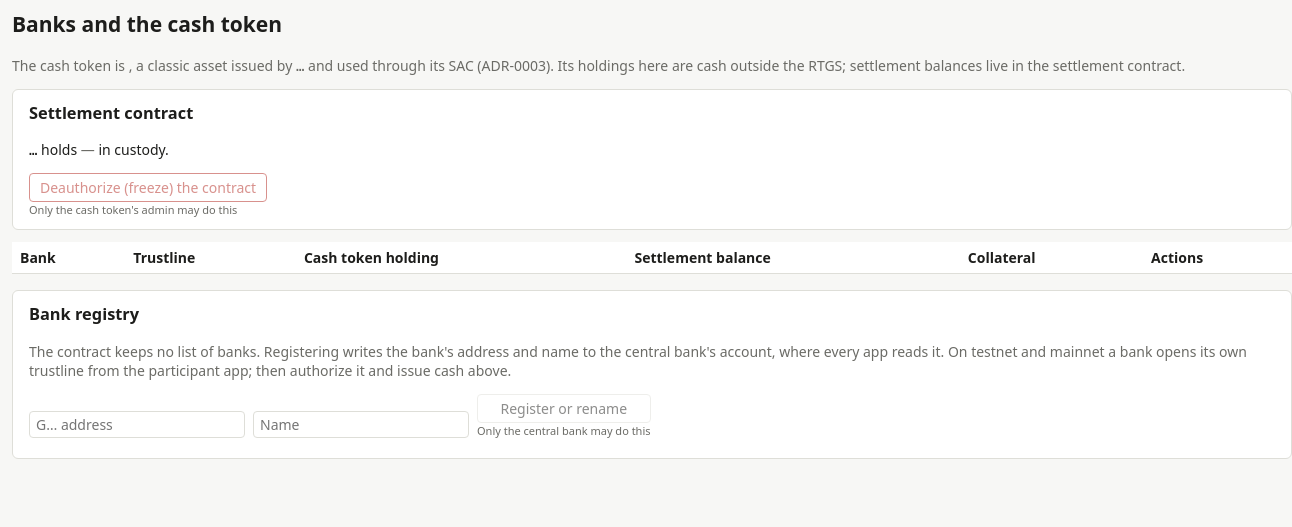
Scenario: Banks › keeps the registration form when registering fails
The width and height of the screenshot is (1292, 527).
Type "GOTHERXXXXXXXXXXXXXXXXXXXXXXXXXXXXXXXXXXXXXXXXXXXXXXXXXX" into the field named "Bank address" at point(137, 424), box [29, 411, 245, 438]
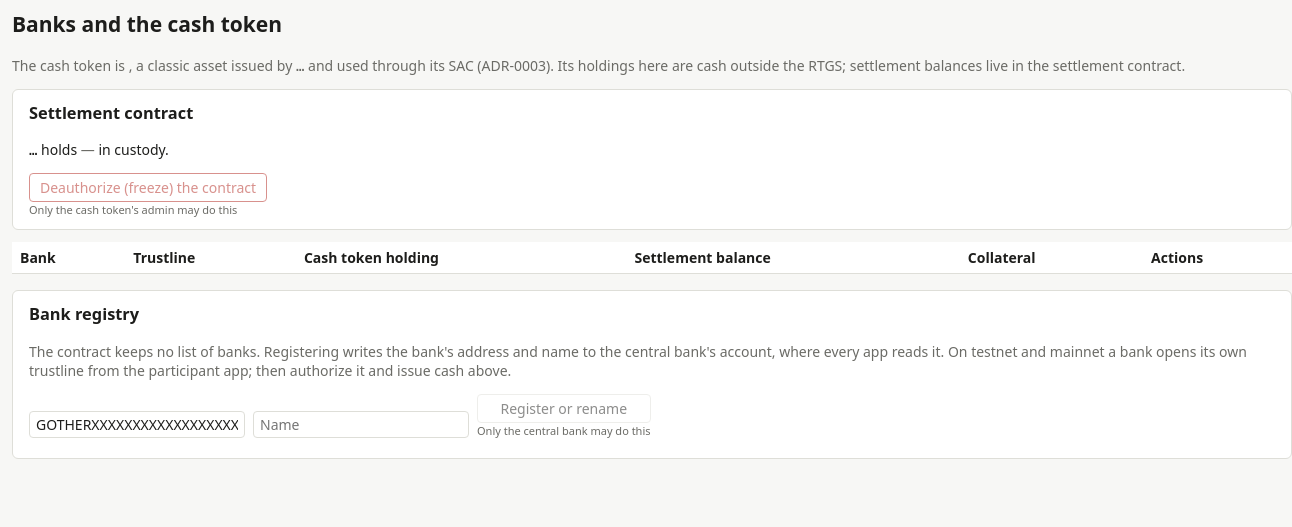
Type "Bank C" into the field named "Bank name" at point(361, 424), box [253, 411, 469, 438]
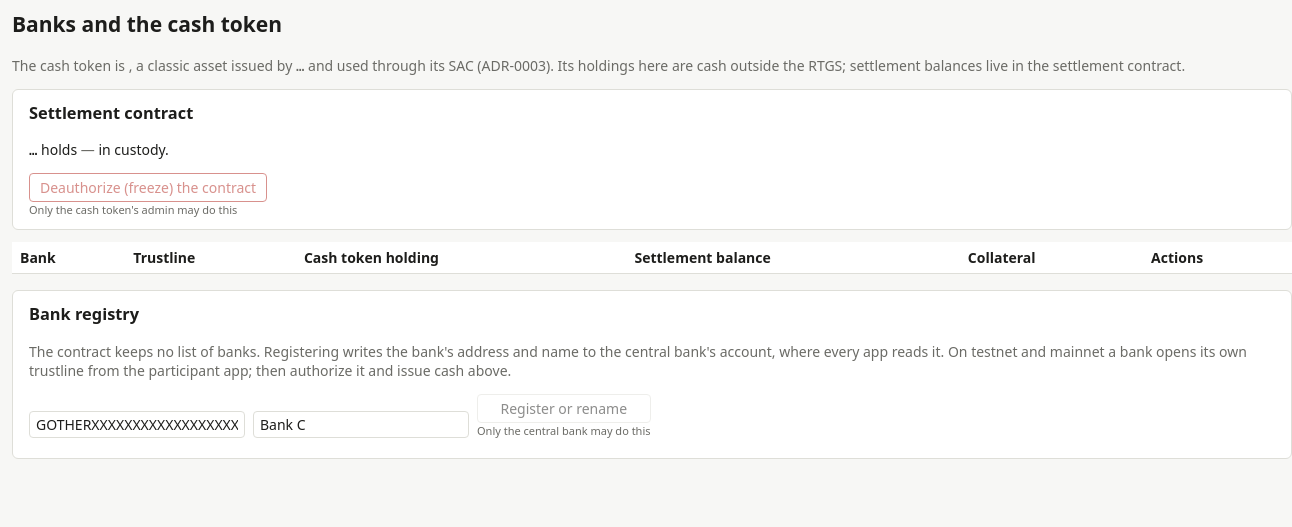
Click the button "Register or rename" at point(564, 408), box [477, 394, 650, 423]
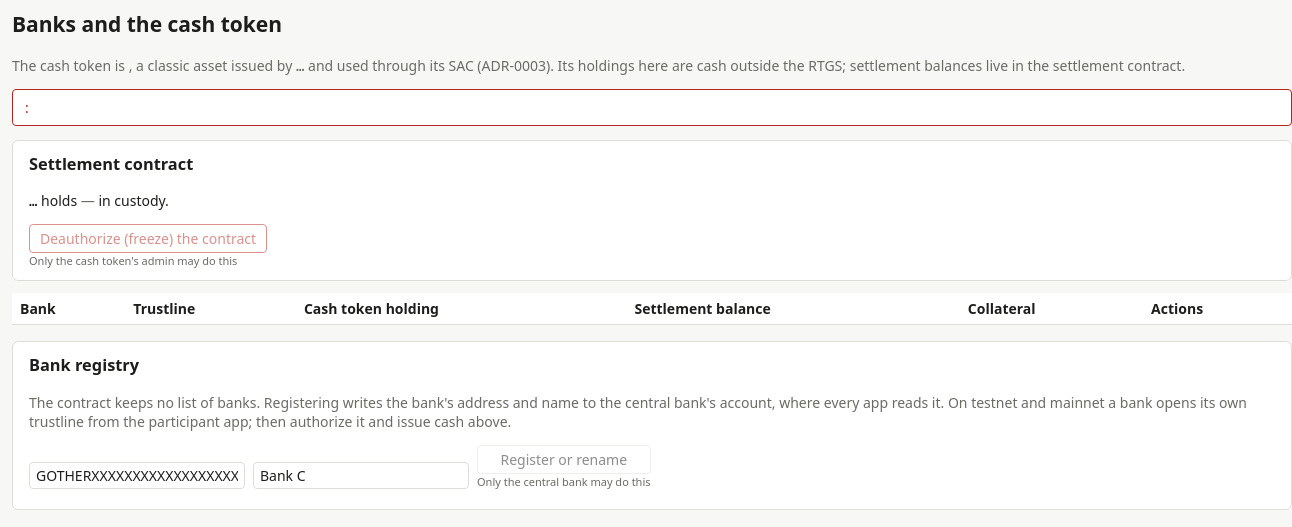
Expected: the message ":" is shown, [12, 89, 1291, 126]
